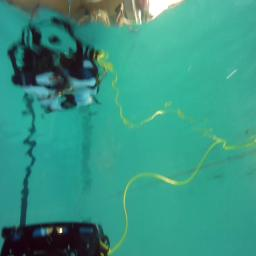Side: (0, 221, 110, 256)
